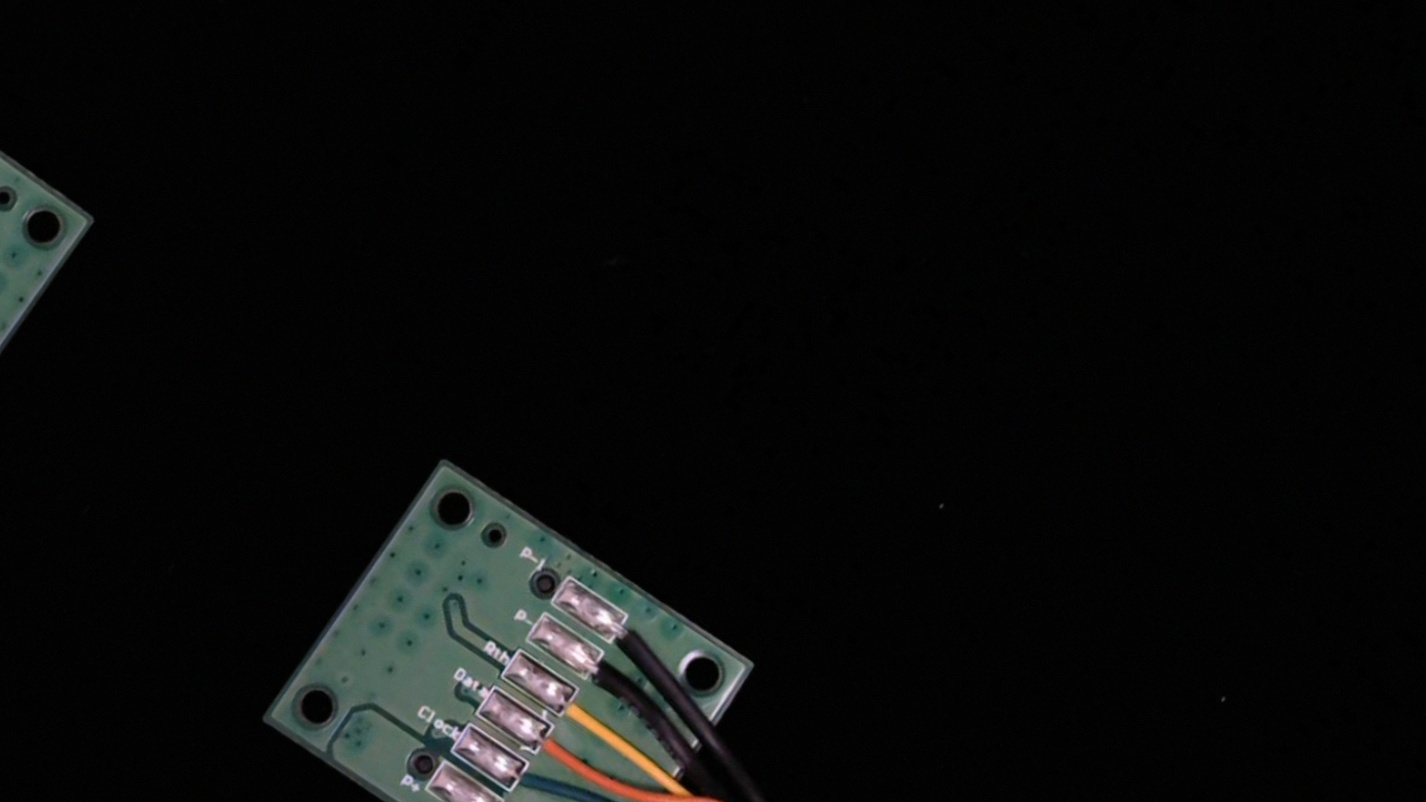Black: (573, 644, 647, 710)
Black1: (597, 607, 672, 673)
Green: (495, 754, 569, 802)
Orange: (523, 719, 596, 783)
Red: (469, 791, 548, 802)
Yellow: (547, 680, 626, 750)
